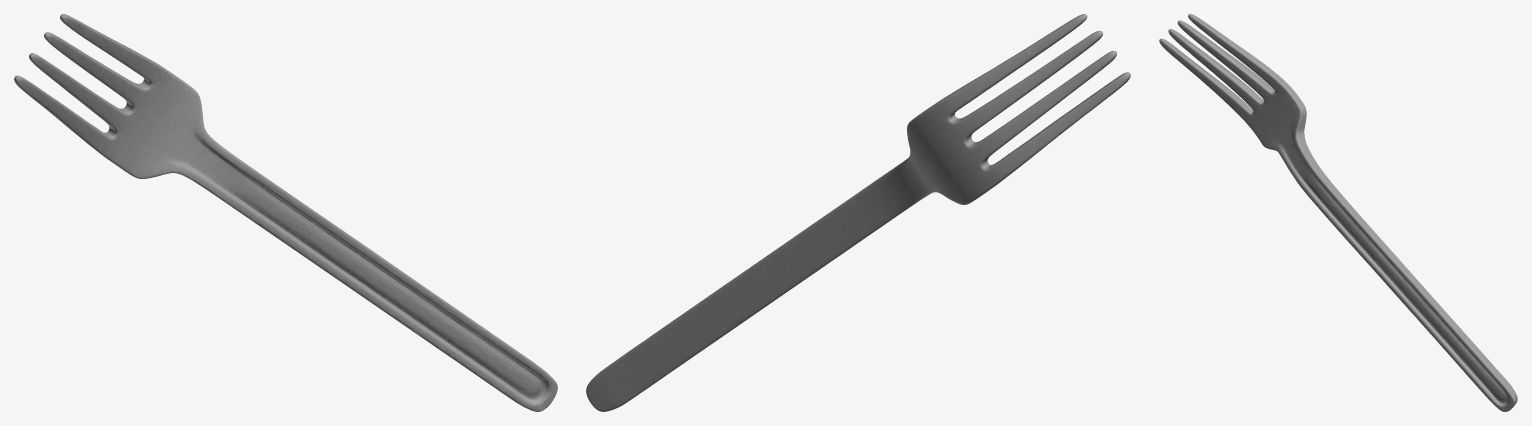
File: sister-13.glb
3 renders of one model, left to right at view 1: azimuth 30°, elevation 25°; view 2: azimuth 150°, elevation 25°; view 3: azimuth 330°, elevation 25°, orthographic. The views are drawn at different scales.
Parts seen in each view (by area): view 1: fork; view 2: fork; view 3: fork.
Part boxes in pixels (<box>): fork: <box>14,14,557,411</box>; fork: <box>586,14,1130,411</box>; fork: <box>1159,14,1517,411</box>.
Size of the model in its own units: 0.1656 by 0.1497 by 0.0172.
1 material, 1 textured.
